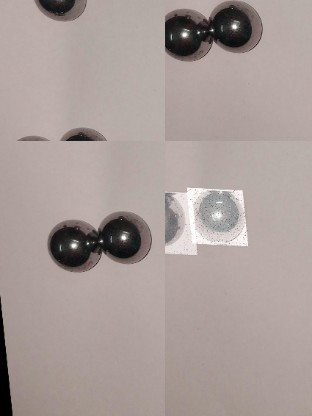ironball: (46, 219, 107, 278), (184, 186, 244, 244), (95, 208, 151, 265), (211, 0, 267, 53), (165, 9, 215, 64), (165, 189, 193, 254), (31, 0, 92, 20), (56, 120, 106, 140), (18, 128, 56, 141)
